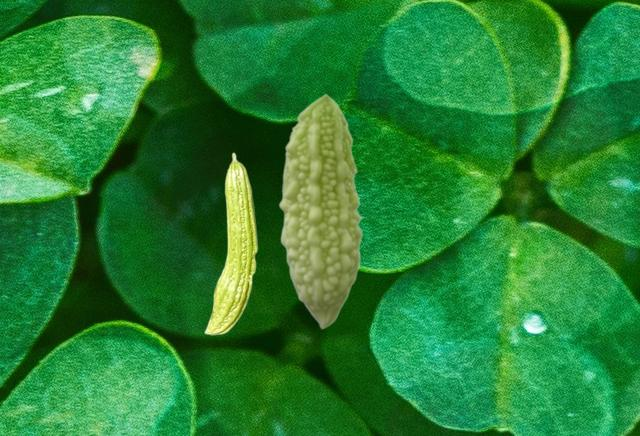ampalaya: (278, 93, 364, 330), (203, 152, 258, 337)
